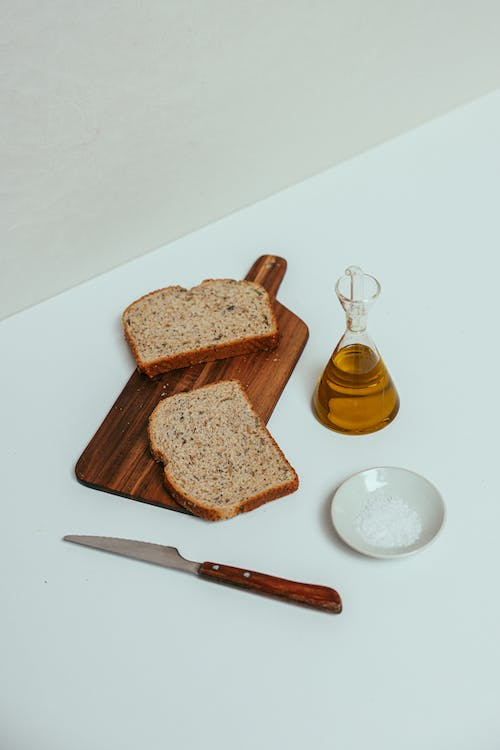knife: (61, 532, 344, 617)
